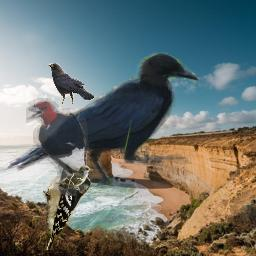Crow: (6, 52, 199, 189), (47, 63, 94, 104)
Cuckoo: (52, 165, 93, 190)
Woodpecker: (26, 97, 96, 196), (43, 163, 91, 250)
